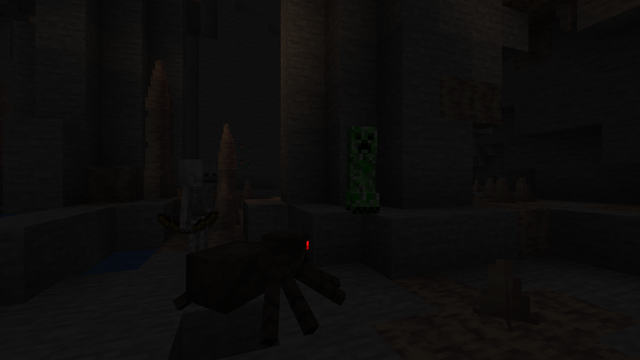araignees: (205, 222, 334, 342)
creepers: (340, 120, 381, 212)
squelettes: (178, 159, 215, 269)
